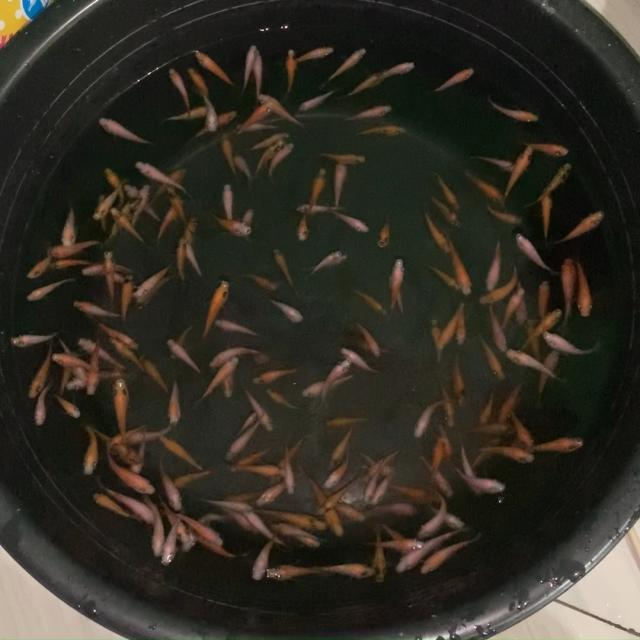nila: (394, 528, 465, 577), (519, 162, 574, 210), (135, 158, 196, 199), (104, 450, 158, 496), (194, 354, 240, 408), (426, 534, 484, 576), (256, 505, 332, 535), (224, 409, 265, 464), (315, 354, 352, 412), (198, 278, 231, 342), (320, 46, 369, 89), (102, 484, 154, 524), (478, 265, 526, 308), (556, 208, 606, 248), (105, 193, 142, 247), (96, 114, 158, 146), (502, 143, 536, 200), (316, 474, 360, 514), (314, 480, 344, 538), (82, 337, 129, 374), (542, 328, 598, 359), (258, 92, 306, 128), (302, 368, 356, 400), (533, 348, 564, 403), (433, 300, 466, 351), (520, 308, 562, 348), (339, 68, 388, 102), (270, 246, 304, 295), (96, 428, 143, 463), (194, 48, 237, 86), (256, 472, 304, 506), (413, 396, 448, 442), (475, 332, 507, 382), (516, 234, 556, 274), (479, 442, 542, 467), (496, 379, 529, 426), (26, 345, 54, 400), (326, 424, 359, 470), (138, 274, 180, 310), (46, 236, 104, 262), (162, 436, 203, 472), (461, 169, 504, 203), (507, 350, 559, 378), (488, 96, 538, 125), (123, 184, 161, 222), (236, 99, 274, 136), (133, 264, 172, 300), (212, 314, 266, 340), (66, 367, 122, 392), (428, 66, 476, 95), (422, 454, 452, 500), (160, 515, 186, 568), (530, 434, 587, 458), (110, 207, 148, 243), (451, 240, 474, 298), (378, 519, 413, 557), (23, 279, 74, 305), (458, 446, 483, 499), (254, 136, 284, 180), (434, 168, 464, 212), (248, 389, 279, 431), (208, 347, 260, 372), (197, 110, 240, 140), (420, 494, 448, 540), (424, 260, 464, 292), (184, 513, 228, 542), (423, 212, 452, 256), (91, 492, 132, 523), (274, 434, 310, 469), (250, 538, 276, 586), (111, 380, 131, 442), (368, 530, 391, 583), (83, 340, 104, 398), (157, 459, 181, 509), (115, 272, 140, 320), (264, 142, 298, 177), (561, 256, 578, 326), (454, 472, 508, 494), (469, 154, 528, 174), (164, 502, 192, 544), (212, 214, 254, 242), (575, 260, 595, 318), (110, 336, 144, 370), (430, 196, 464, 230), (102, 320, 143, 348), (88, 186, 118, 224), (72, 299, 121, 322), (168, 340, 200, 375), (331, 207, 372, 234), (167, 66, 191, 112), (344, 102, 392, 125), (268, 295, 306, 324), (499, 290, 524, 334), (220, 342, 238, 403), (341, 348, 380, 376), (250, 515, 283, 548), (318, 562, 378, 580), (482, 238, 502, 292), (128, 183, 154, 224), (140, 354, 168, 392), (59, 203, 81, 251), (250, 364, 298, 386), (322, 456, 353, 490), (350, 284, 384, 315), (427, 506, 467, 532), (330, 159, 350, 211), (298, 88, 336, 115), (470, 436, 500, 470), (11, 328, 62, 348), (154, 166, 183, 201), (128, 421, 172, 444), (157, 199, 179, 244), (308, 168, 329, 215), (230, 461, 288, 478), (366, 538, 423, 555), (279, 450, 300, 496), (434, 376, 454, 424), (80, 262, 140, 278), (218, 132, 238, 180), (371, 468, 396, 506), (49, 254, 96, 274), (166, 325, 192, 361), (356, 320, 381, 357), (238, 270, 280, 292), (265, 566, 311, 586), (151, 500, 166, 560), (524, 321, 544, 366), (226, 508, 258, 536), (356, 124, 412, 140), (388, 256, 404, 312), (374, 61, 416, 82), (356, 455, 396, 477), (199, 496, 254, 512), (224, 483, 268, 503), (511, 413, 536, 448), (310, 248, 342, 275), (296, 44, 337, 65), (325, 413, 375, 430), (198, 536, 233, 560), (104, 166, 125, 206), (167, 184, 188, 224), (252, 130, 292, 151), (387, 275, 408, 315), (520, 139, 572, 155), (56, 352, 102, 370), (166, 377, 182, 428), (184, 64, 208, 98), (240, 43, 256, 94), (104, 251, 119, 305), (306, 252, 351, 270), (488, 306, 506, 351), (428, 436, 444, 486), (470, 420, 520, 436), (170, 468, 210, 488), (200, 94, 220, 134), (232, 446, 272, 466), (486, 206, 526, 226), (183, 242, 205, 278), (233, 152, 257, 185), (369, 505, 424, 519), (82, 422, 96, 477), (270, 388, 302, 412), (321, 150, 368, 166), (452, 356, 466, 409), (478, 388, 497, 427), (434, 423, 454, 460), (56, 351, 72, 397), (428, 316, 444, 362), (54, 392, 82, 418), (284, 48, 298, 100), (397, 485, 437, 503), (360, 472, 384, 502), (34, 384, 52, 424), (542, 185, 554, 244), (166, 106, 210, 122), (26, 255, 54, 280), (296, 202, 354, 214), (274, 522, 310, 541), (253, 48, 266, 98), (516, 278, 530, 324), (222, 181, 236, 226), (234, 118, 282, 131), (538, 278, 552, 322), (176, 234, 188, 284), (181, 214, 198, 248), (296, 211, 314, 243), (236, 410, 258, 436), (338, 504, 366, 524), (131, 444, 148, 476), (456, 302, 468, 347), (377, 217, 393, 250), (242, 206, 257, 241), (96, 194, 109, 230), (293, 532, 320, 549), (196, 512, 231, 523), (112, 272, 126, 287)
